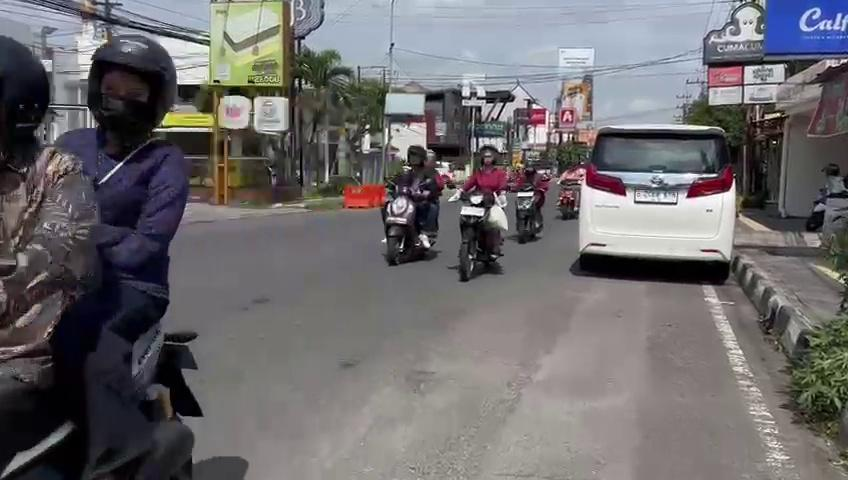helm: (80, 28, 181, 141)
